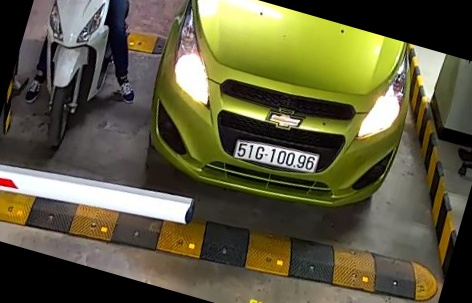plate: (231, 136, 324, 180)
